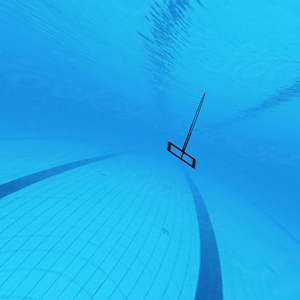circle: (166, 86, 208, 170)
